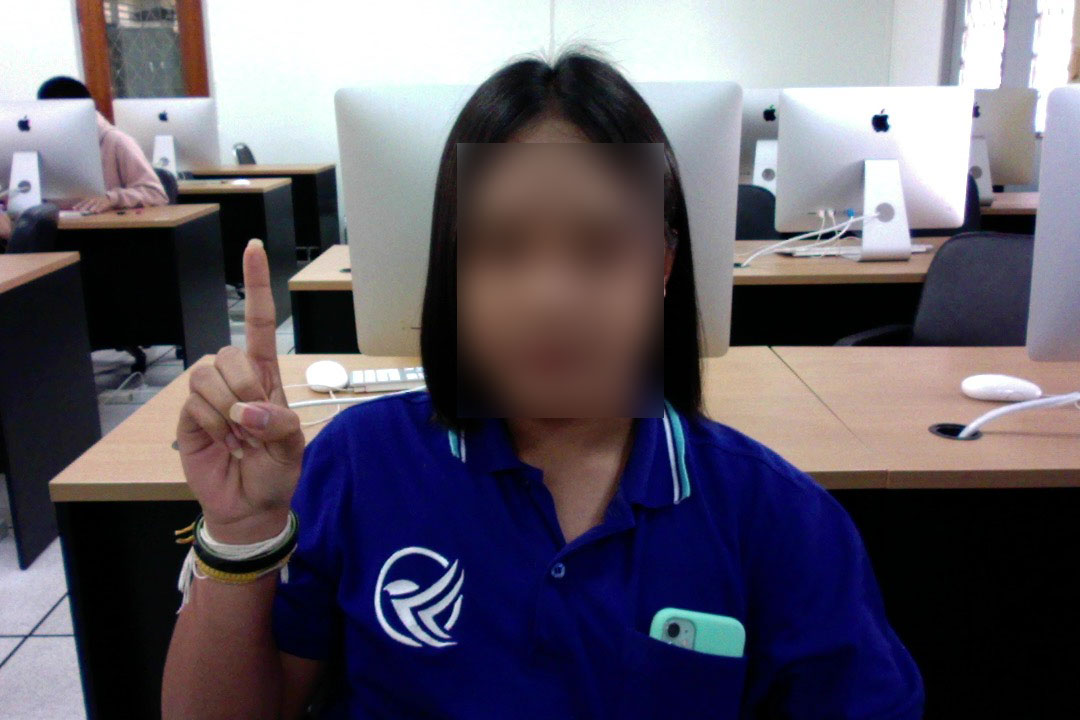dor: (174, 234, 312, 553)
